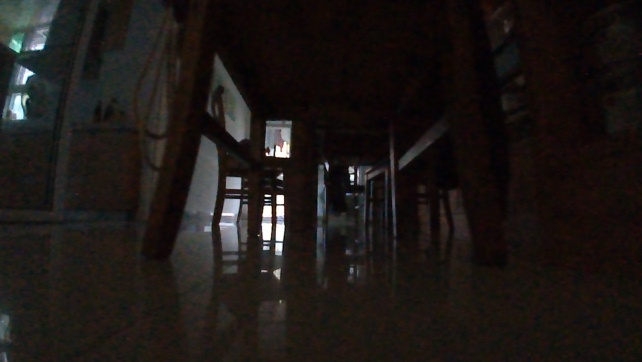dining_table1: (130, 0, 600, 267)
